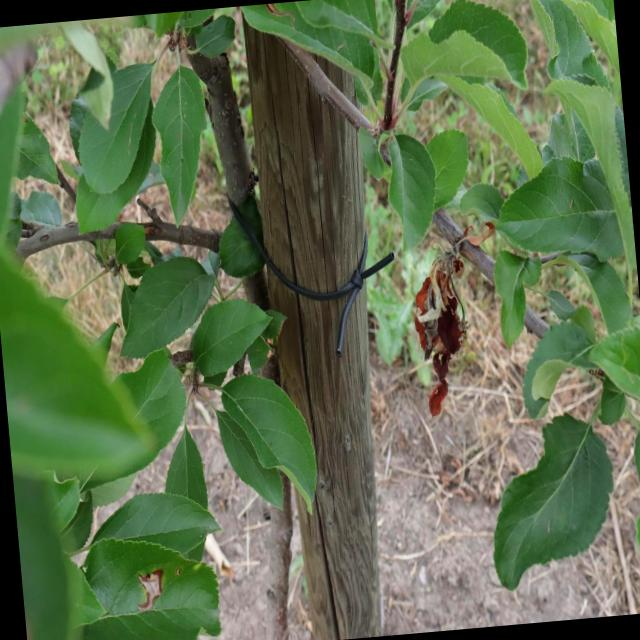-FireBlight-: (417, 219, 500, 415)
